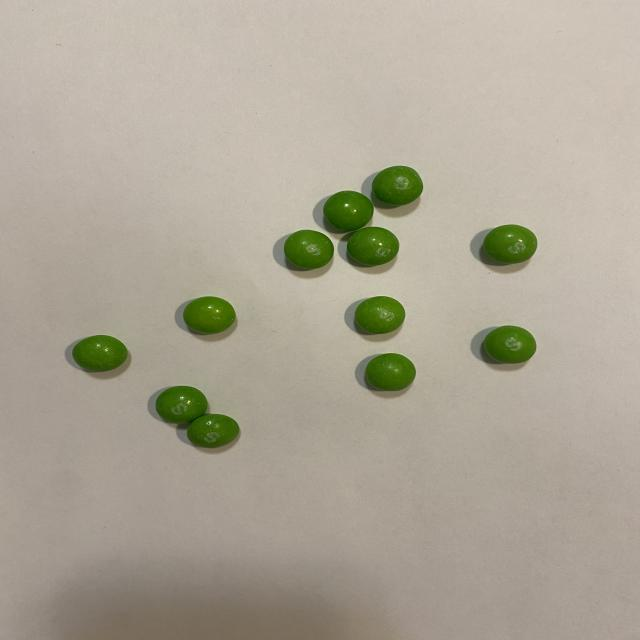smartie: (484, 224, 538, 263), (323, 190, 374, 231), (71, 335, 127, 372), (372, 165, 423, 205), (347, 226, 399, 265), (182, 296, 235, 334), (154, 386, 207, 424), (484, 326, 537, 364), (354, 296, 405, 334), (365, 353, 416, 391), (284, 230, 333, 269), (186, 414, 239, 449)
